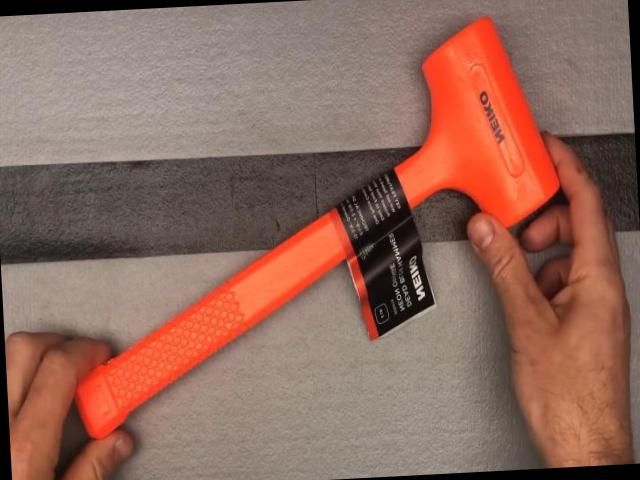hammer: (51, 15, 572, 439)
